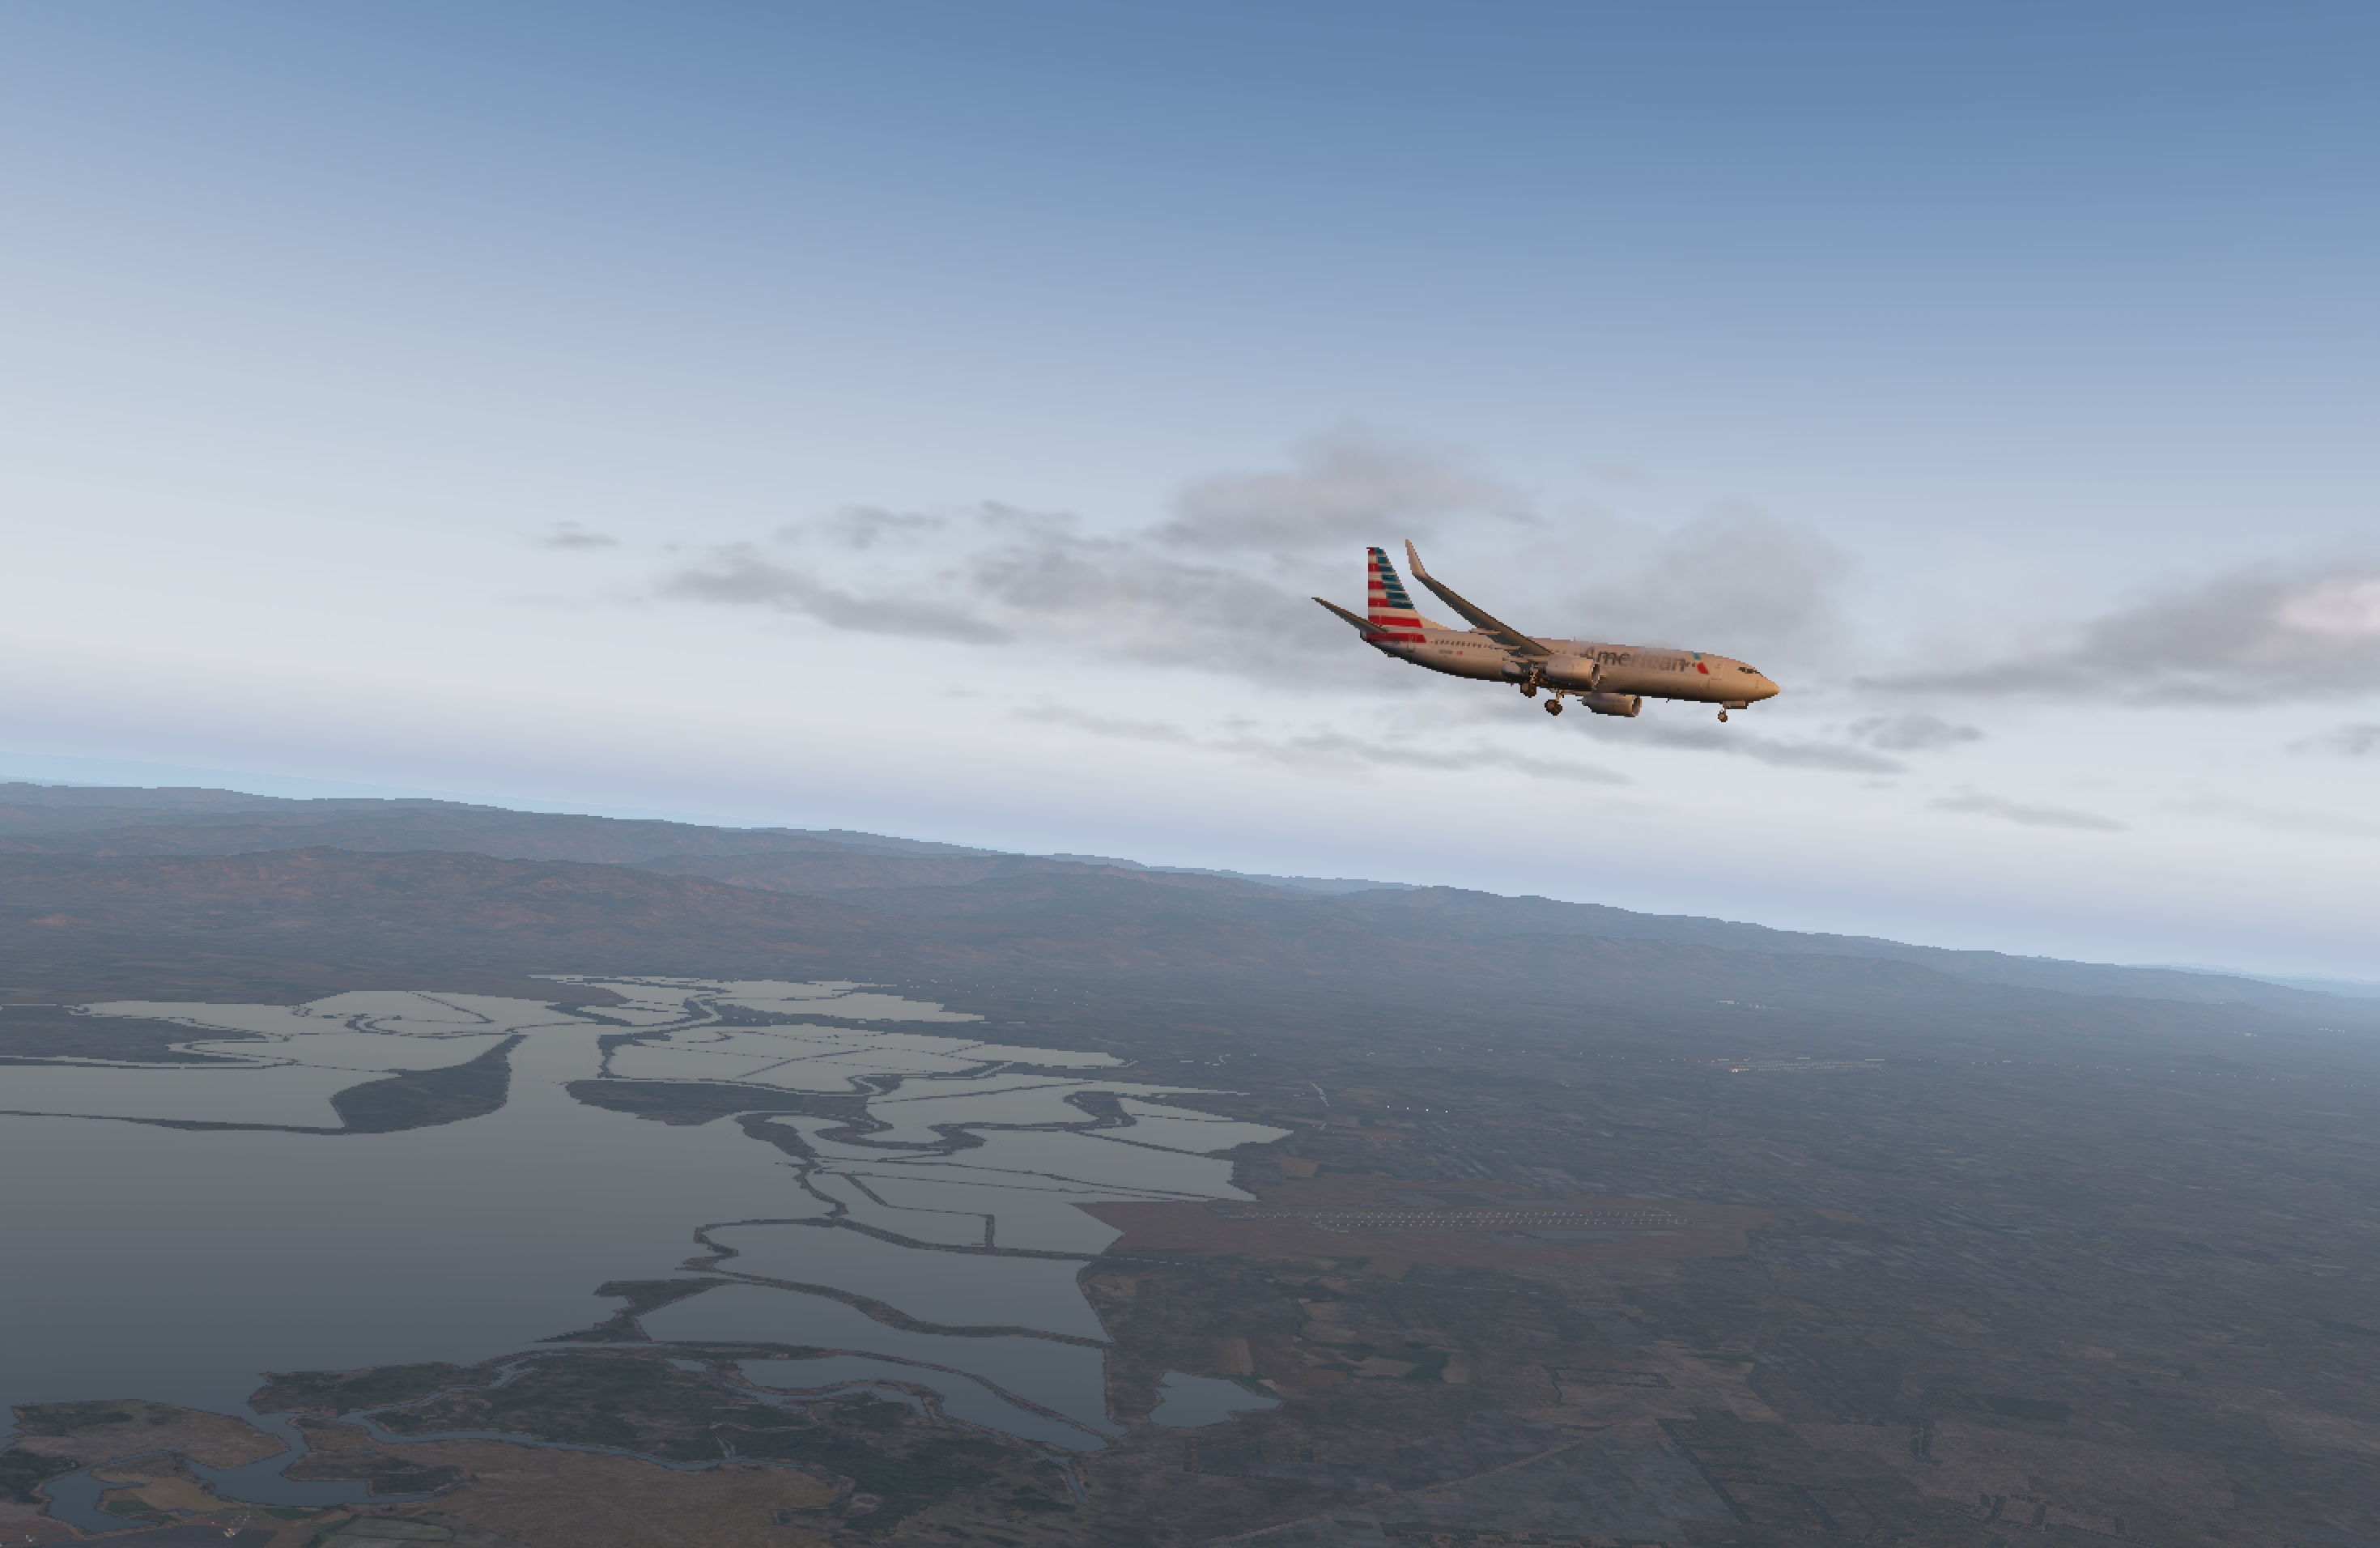aircraft: (1331, 585, 1795, 759)
